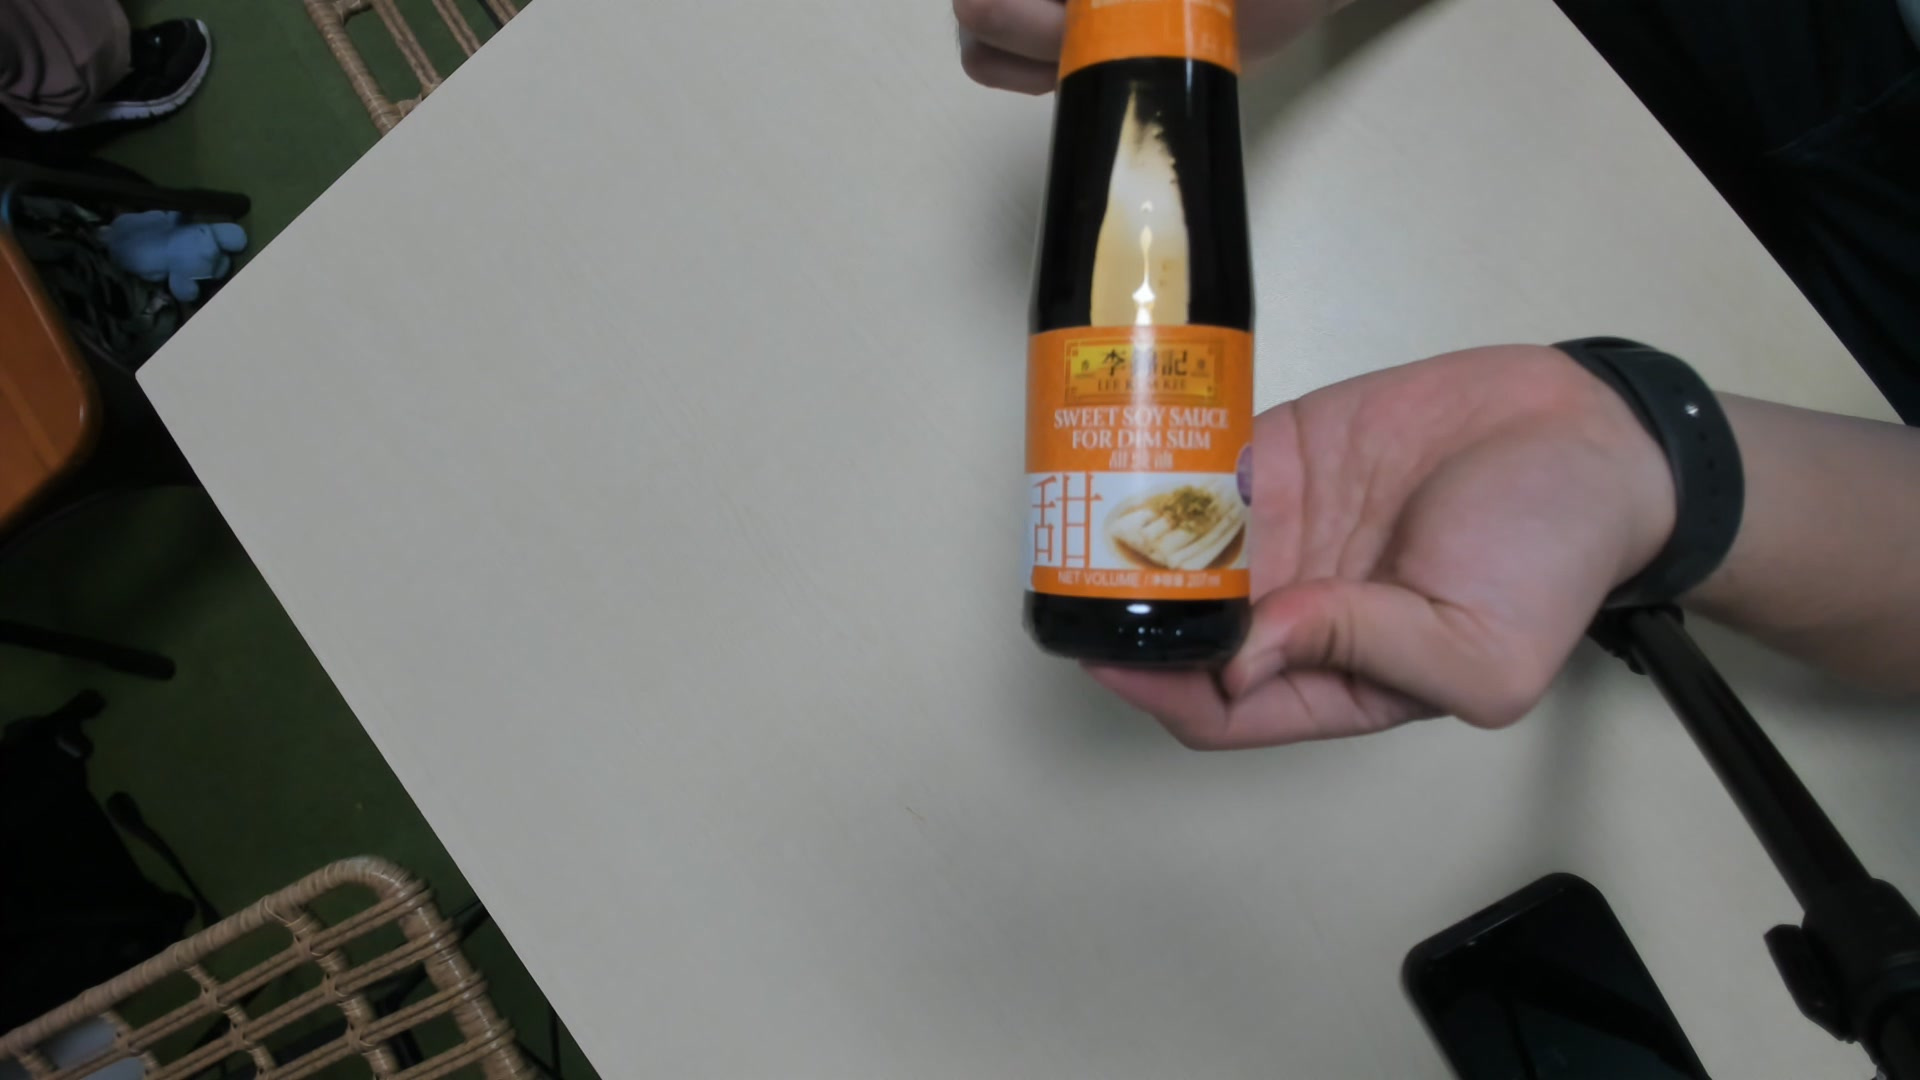OtherSauceDressing_200-299g_NonHalal_NonHealthy: (1023, 1, 1261, 665)
